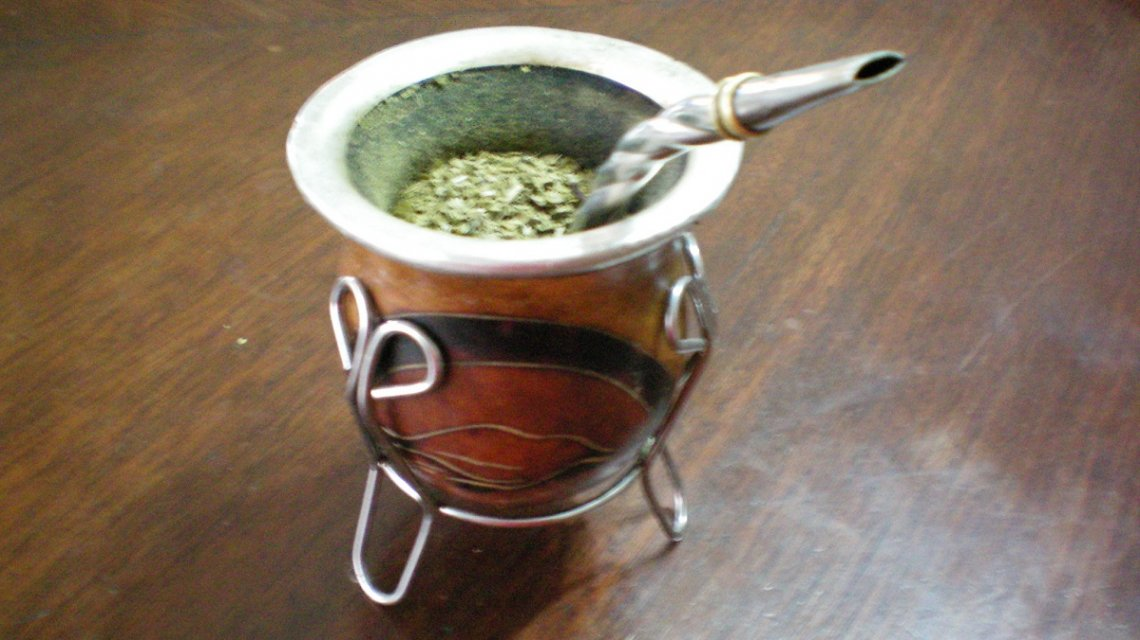guampa: (265, 14, 918, 610)
